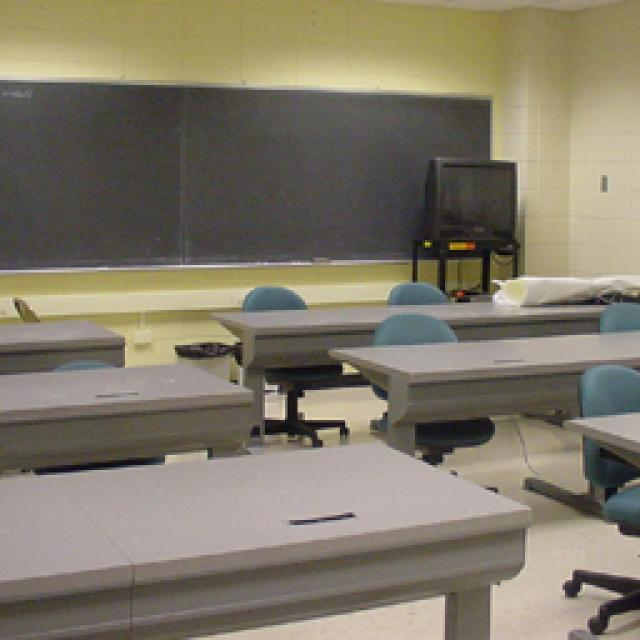Fire: (422, 230, 480, 298)
